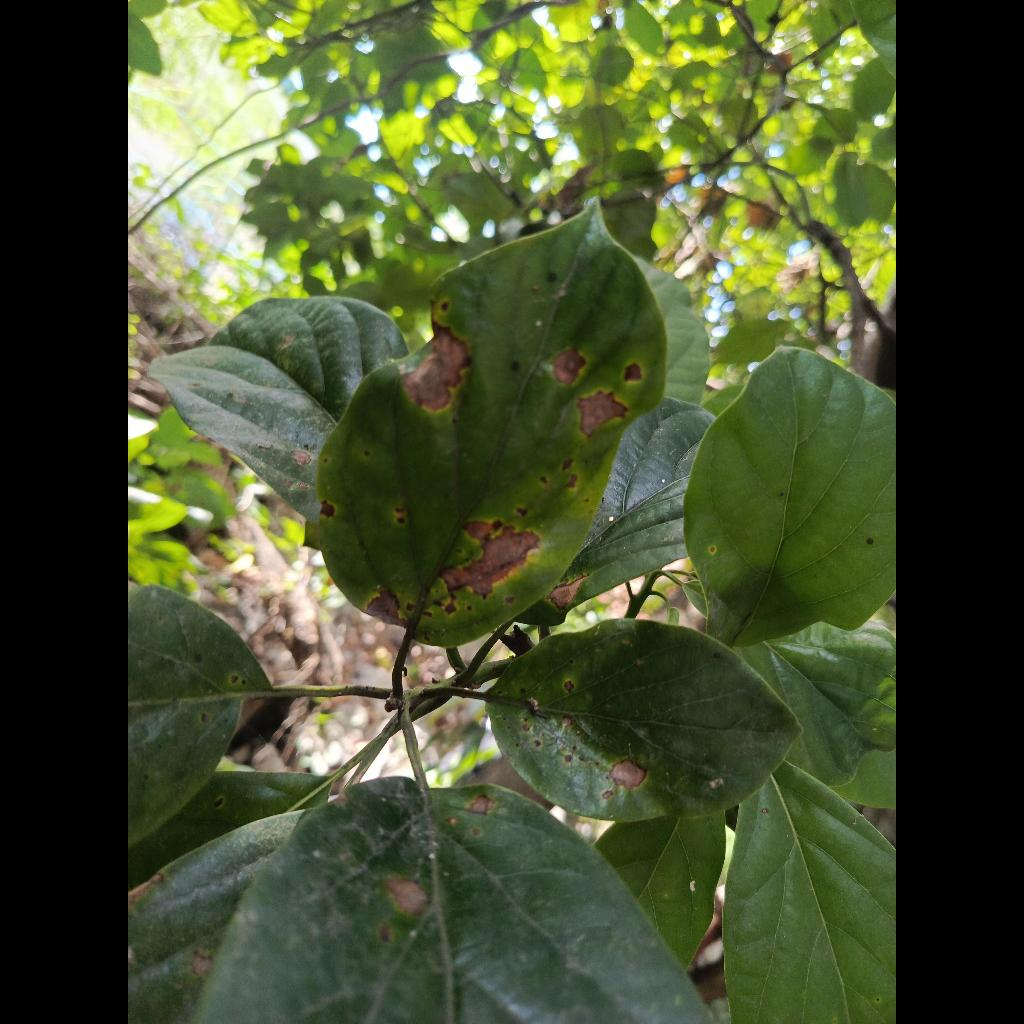Anthracnose: (316, 208, 666, 647)
